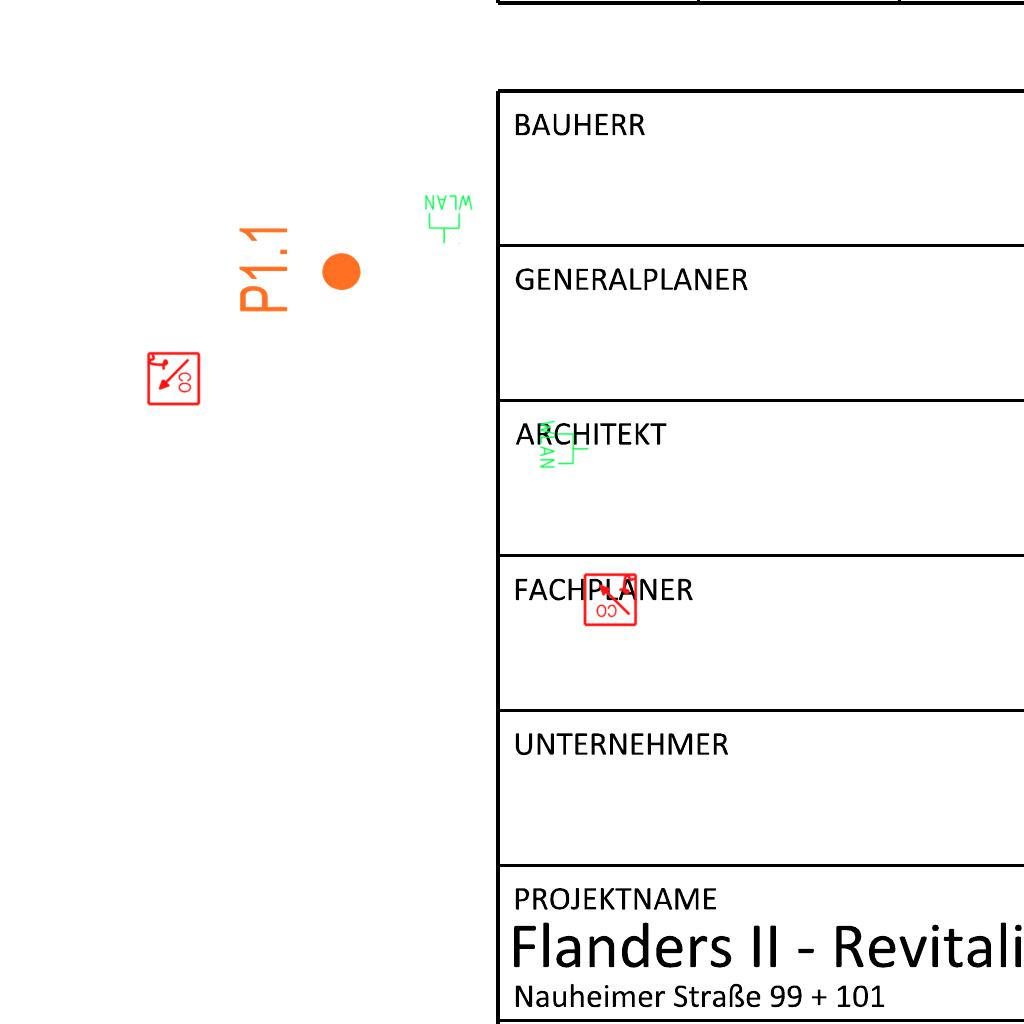Downlight_LED_Einbauleuchten_Flur: (236, 222, 364, 315)
ROA_Rauchmelder_optisch_mit_Signalgeber_(Sockelsirene): (145, 351, 201, 407), (582, 571, 638, 627)
WLAN: (538, 418, 590, 470), (423, 193, 475, 245)
